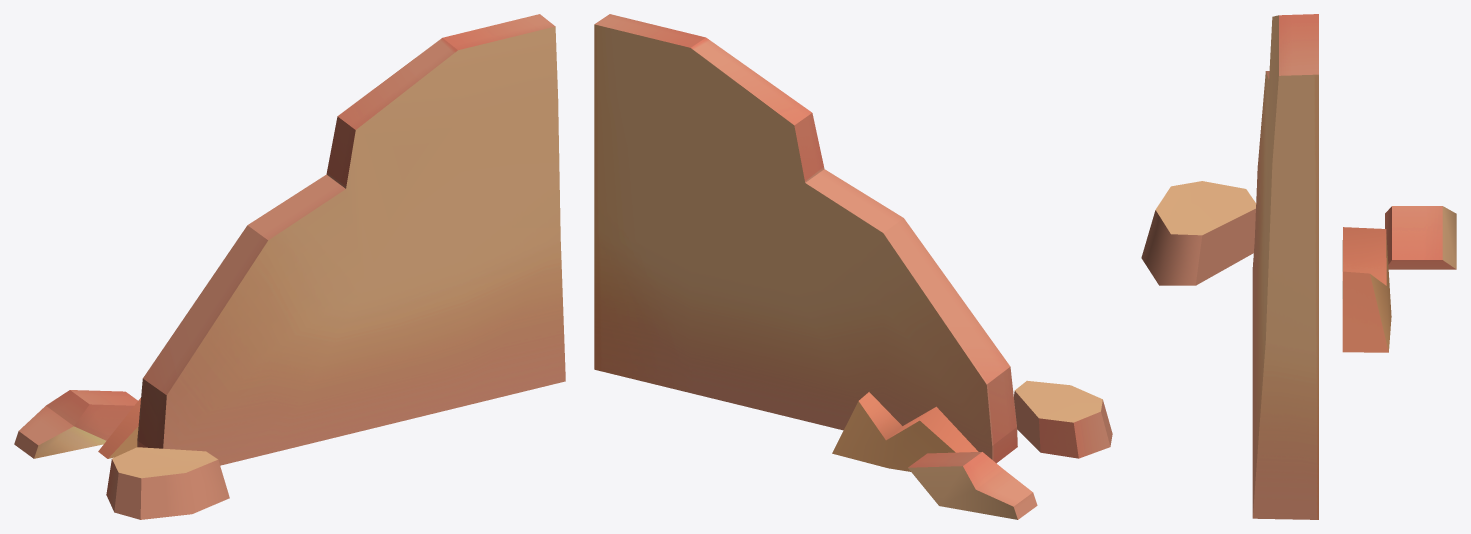
File: wall_01.fbx
3 views of the same model, side by side, from view 1: azimuth 30°, elevation 25°; view 2: azimuth 150°, elevation 25°; view 3: azimuth 270°, elevation 25° (orthographic). The views are drawn at different scales.
Parts seen in each view (by area): view 1: polySurface11; view 2: polySurface11; view 3: polySurface11.
Part boxes in pixels (x1,y1,x2,y2): polySurface11: [14, 14, 565, 519]; polySurface11: [594, 14, 1112, 519]; polySurface11: [1141, 14, 1456, 519].
Size of the model in its own units: 54.72 by 38.3 by 24.56.
1 material, 1 textured.
